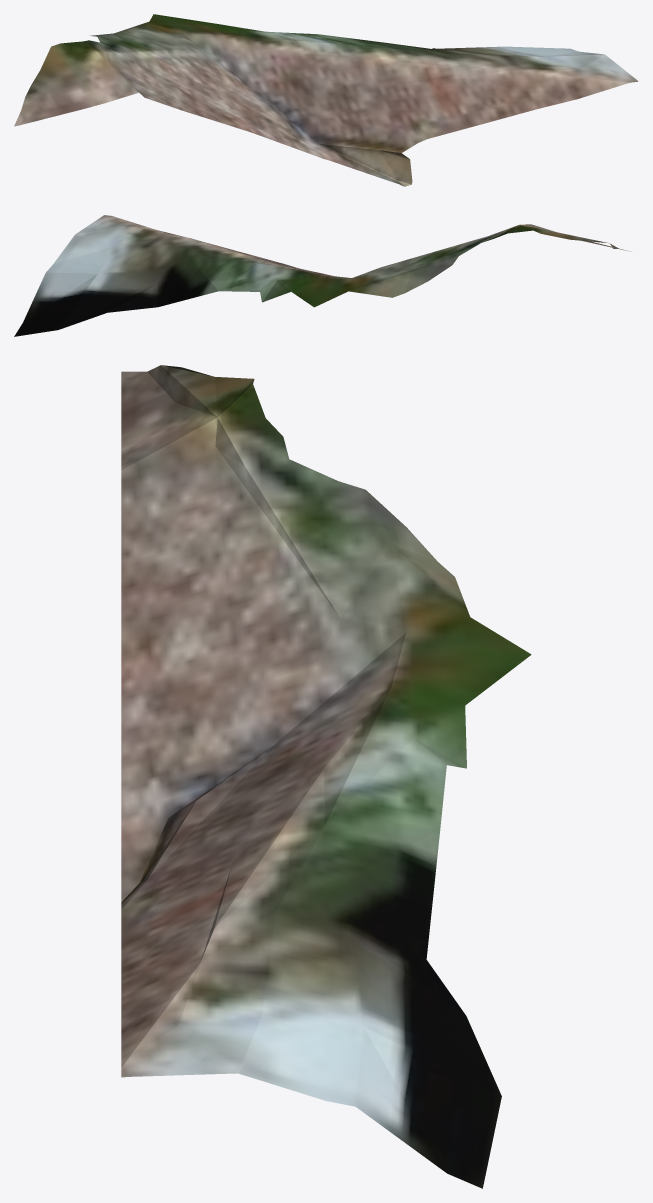
3 renders of one model, top to bottom at view 1: azimuth 30°, elevation 25°; view 2: azimuth 150°, elevation 25°; view 3: azimuth 270°, elevation 25°, orthographic. The views are drawn at different scales.
Bounding box in the file's own units: 15.64 × 4.95 × 5.2.
1 material, 1 textured.
